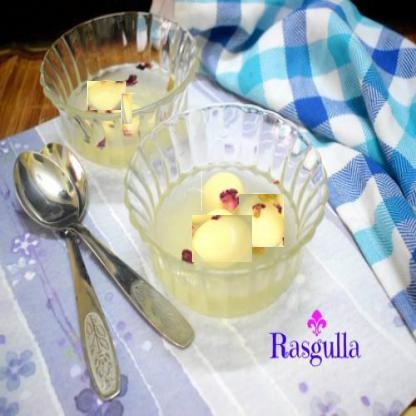rasgulla: (195, 211, 249, 265), (238, 193, 284, 247), (201, 171, 244, 211), (87, 80, 126, 110), (116, 98, 137, 119)
